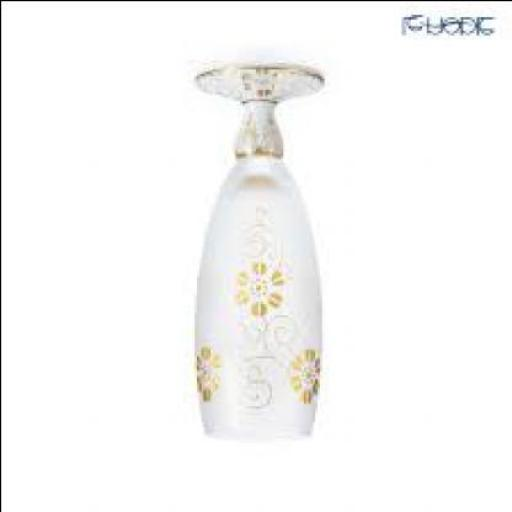glass: (191, 64, 323, 439)
